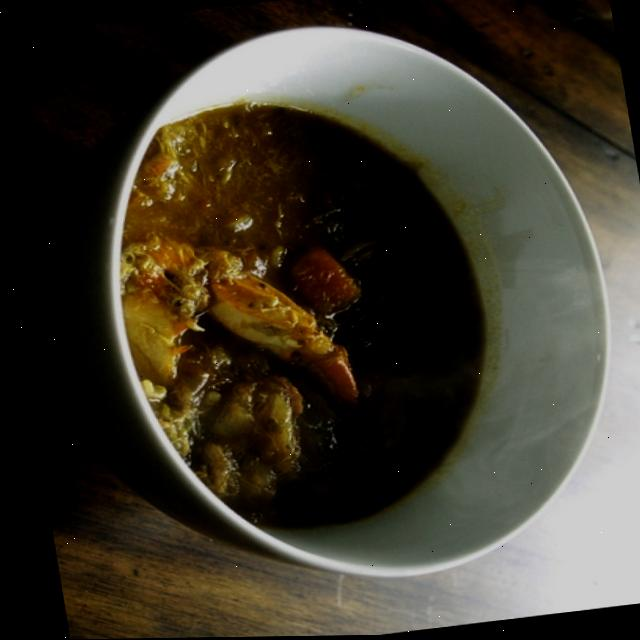汤锅炖物: (6, 0, 640, 637)
